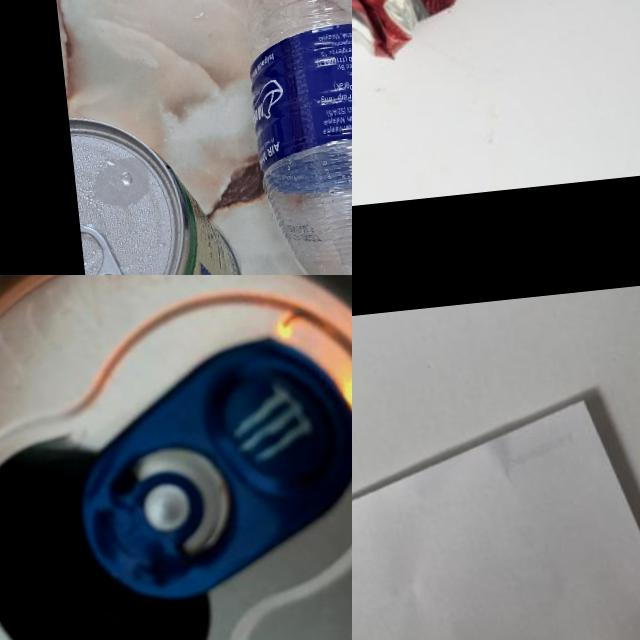aba de lata: (60, 322, 352, 606), (79, 220, 140, 275)
garrafa plástica: (216, 0, 352, 275)
lata: (0, 275, 352, 640), (67, 101, 251, 275)
papel: (352, 383, 640, 640)
